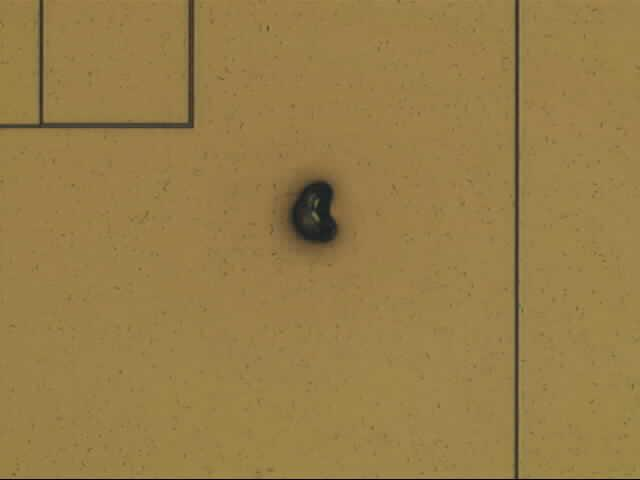PIQ PARTICLE: (280, 167, 349, 256)
